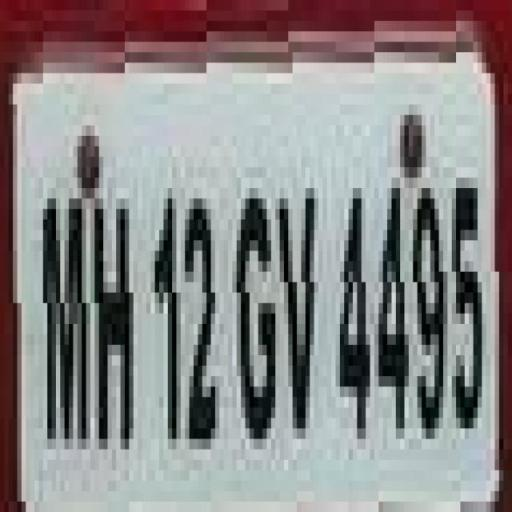number plate: (0, 73, 512, 512)
